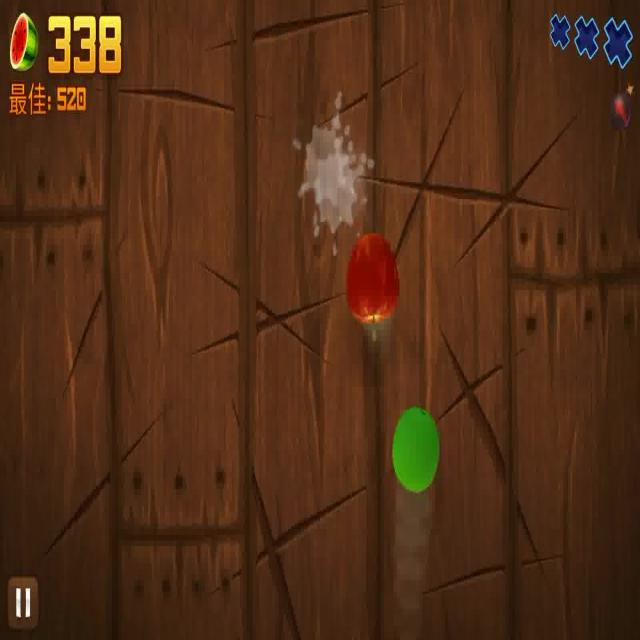fruit: (345, 231, 400, 328), (392, 403, 441, 499)
